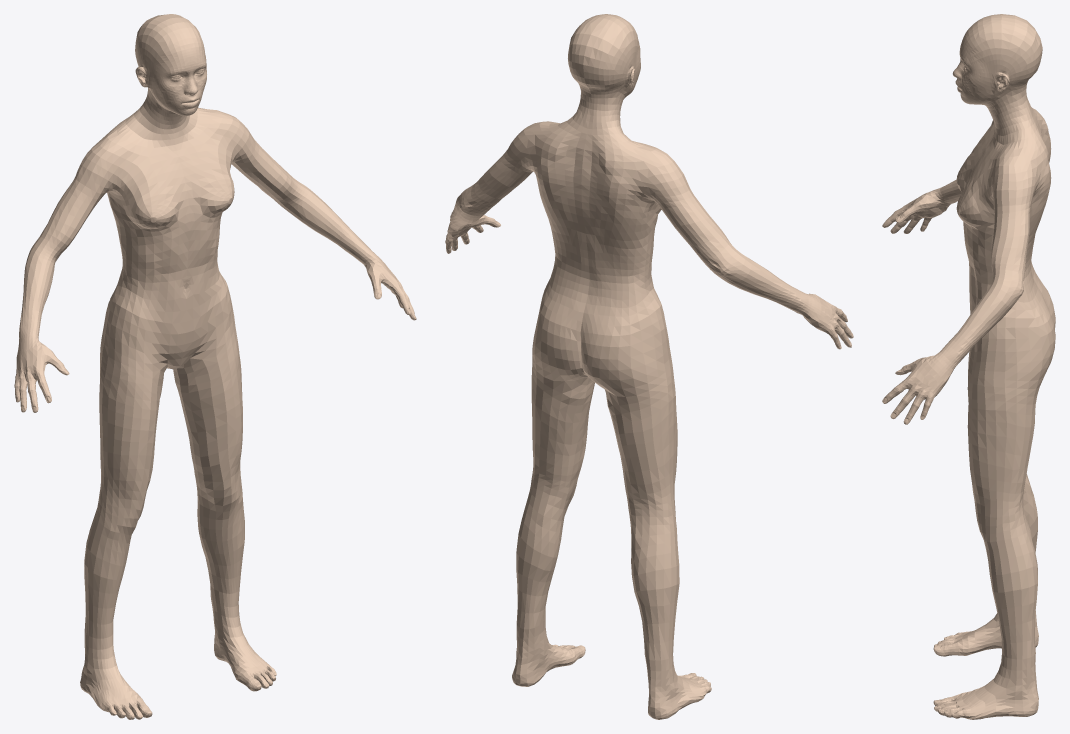
File: female-young-lean-strong.glb
The picture shows the model from 3 angles, left to right: view 1: azimuth 30°, elevation 25°; view 2: azimuth 150°, elevation 25°; view 3: azimuth 270°, elevation 25°; orthographic projection.
Parts seen in each view (by area): view 1: world; view 2: world; view 3: world.
Part boxes in pixels (x1,y1,x2,y2): world: [14, 14, 416, 719]; world: [445, 14, 853, 719]; world: [882, 14, 1055, 719].
Size of the model in its own units: 1.09 by 1.76 by 0.4154.
